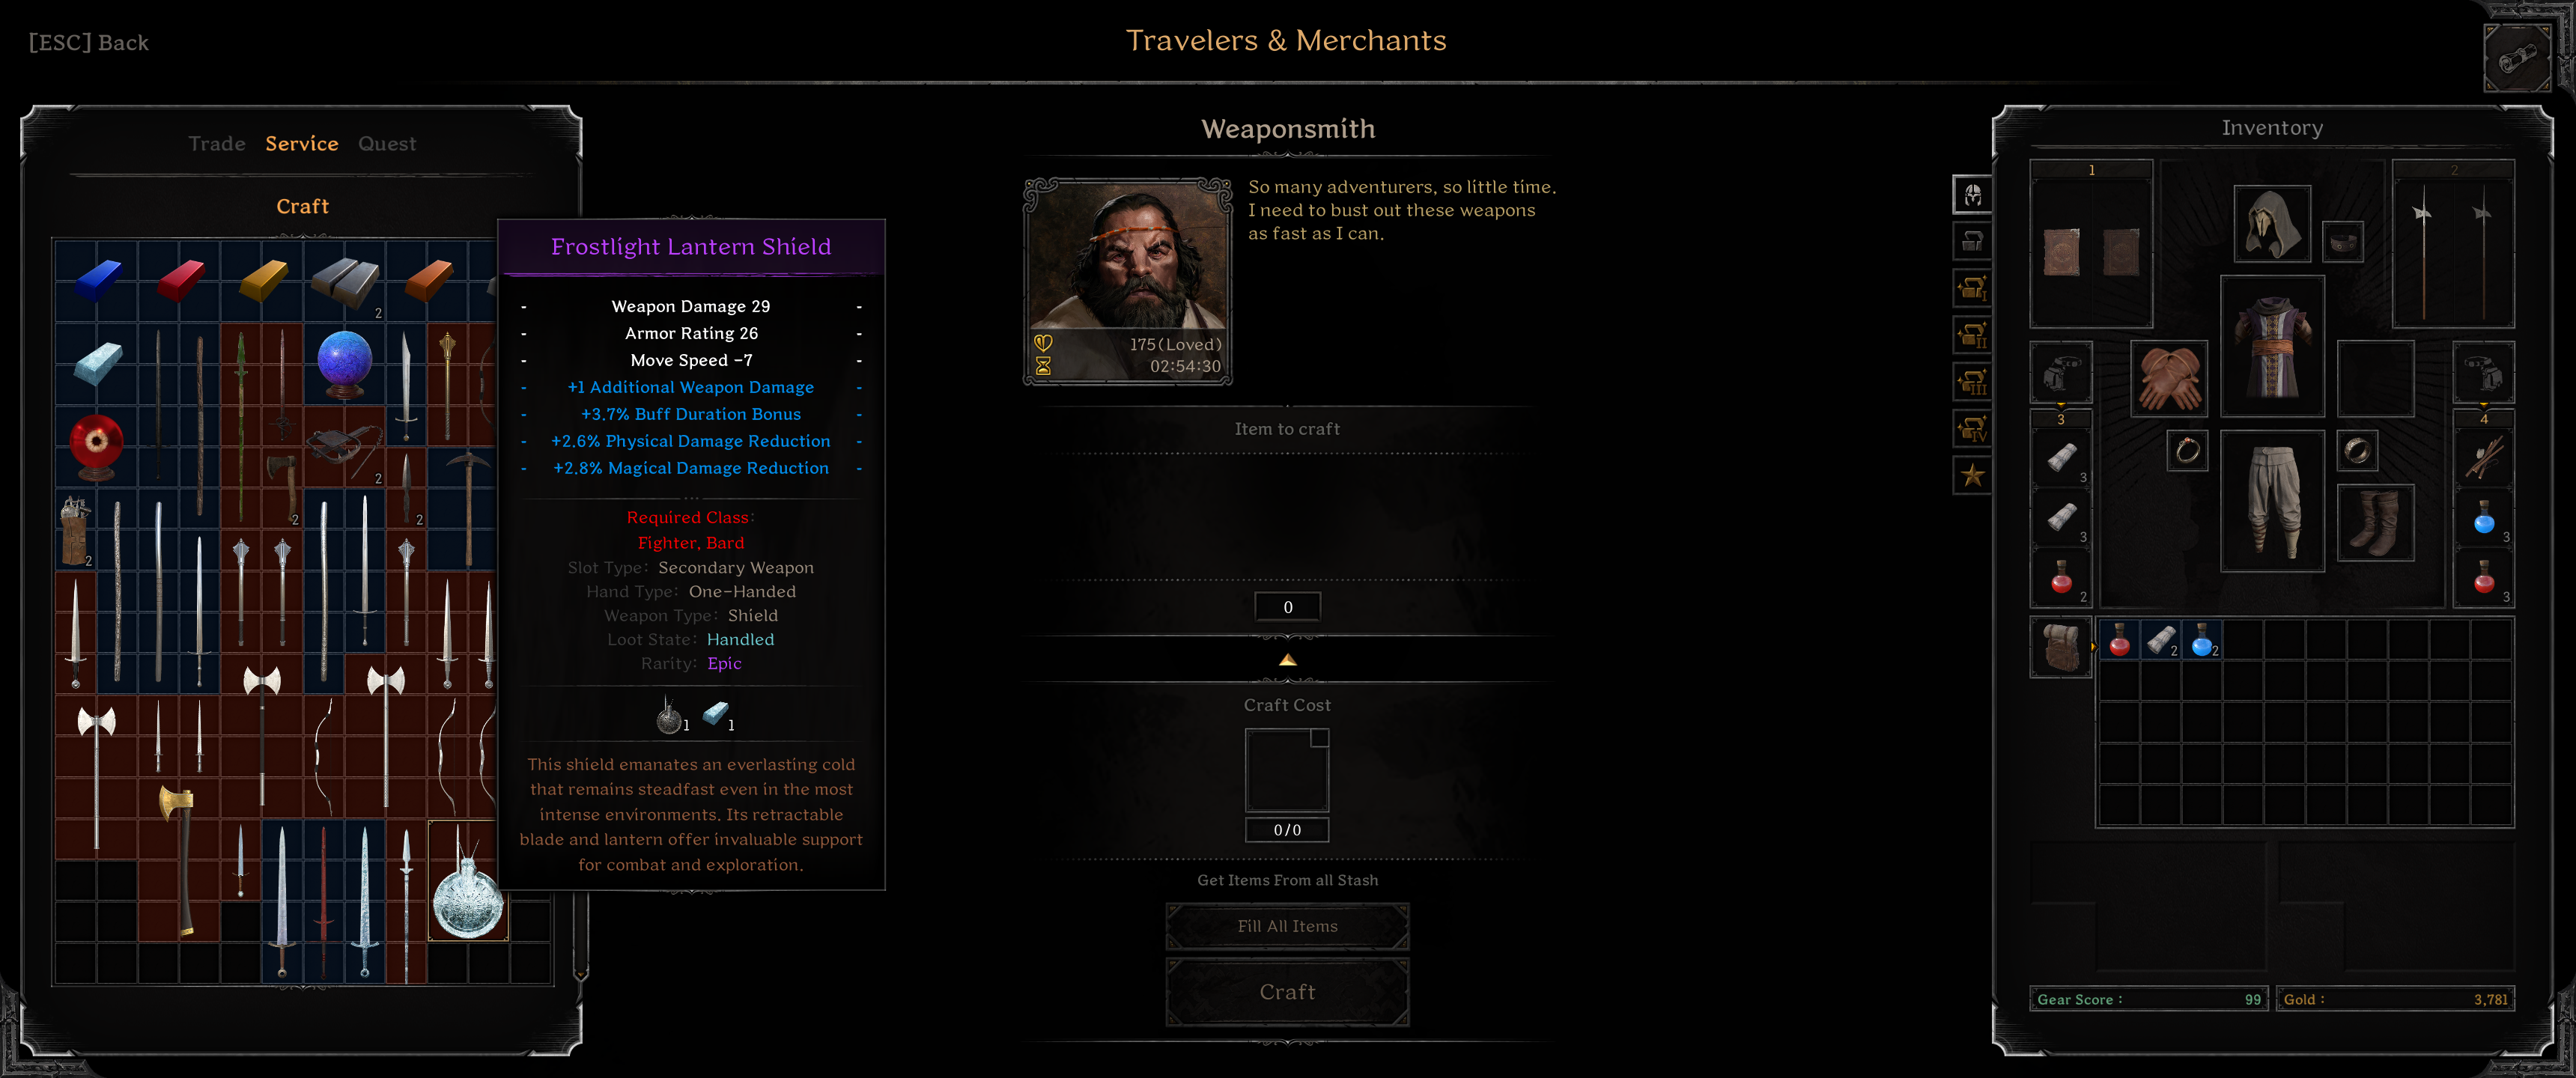Tooltip: (496, 217, 887, 892)
